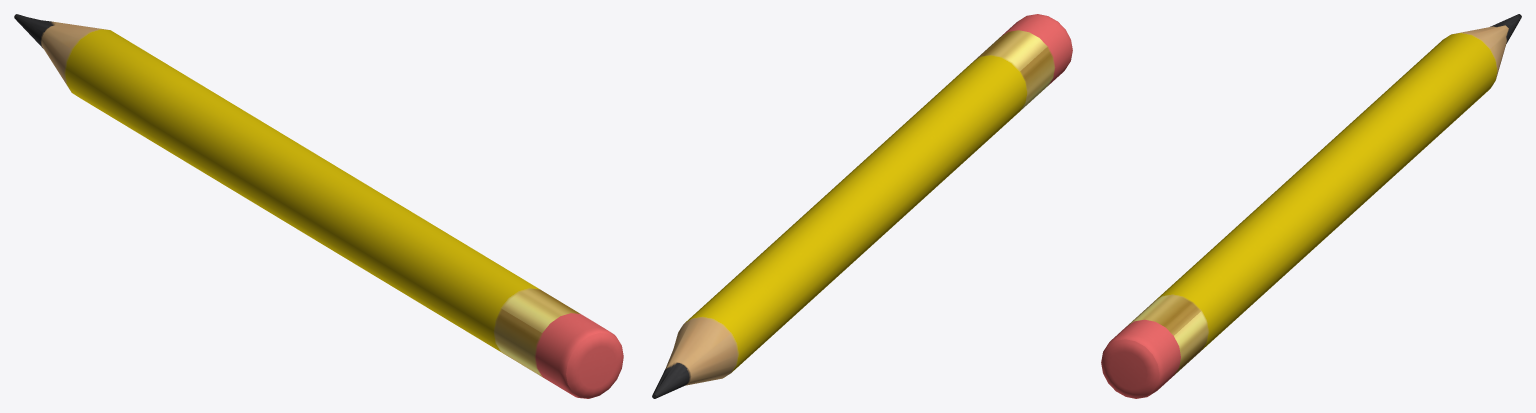
The model's file is pencil.obj.
The picture shows the model from 3 angles, left to right: view 1: azimuth 30°, elevation 25°; view 2: azimuth 150°, elevation 25°; view 3: azimuth 330°, elevation 25°; orthographic projection. The views are drawn at different scales.
Visible parts, largest first — view 1: Cylinder001; view 2: Cylinder001; view 3: Cylinder001.
Part boxes in pixels (box(x1,y1,x2,y2)): Cylinder001: box(14, 14, 623, 398); Cylinder001: box(652, 14, 1072, 398); Cylinder001: box(1101, 14, 1521, 398).
Bounding box in the file's own units: 10.85 × 5.34 × 73.24.
Materials: 1 (1 with a texture image).
